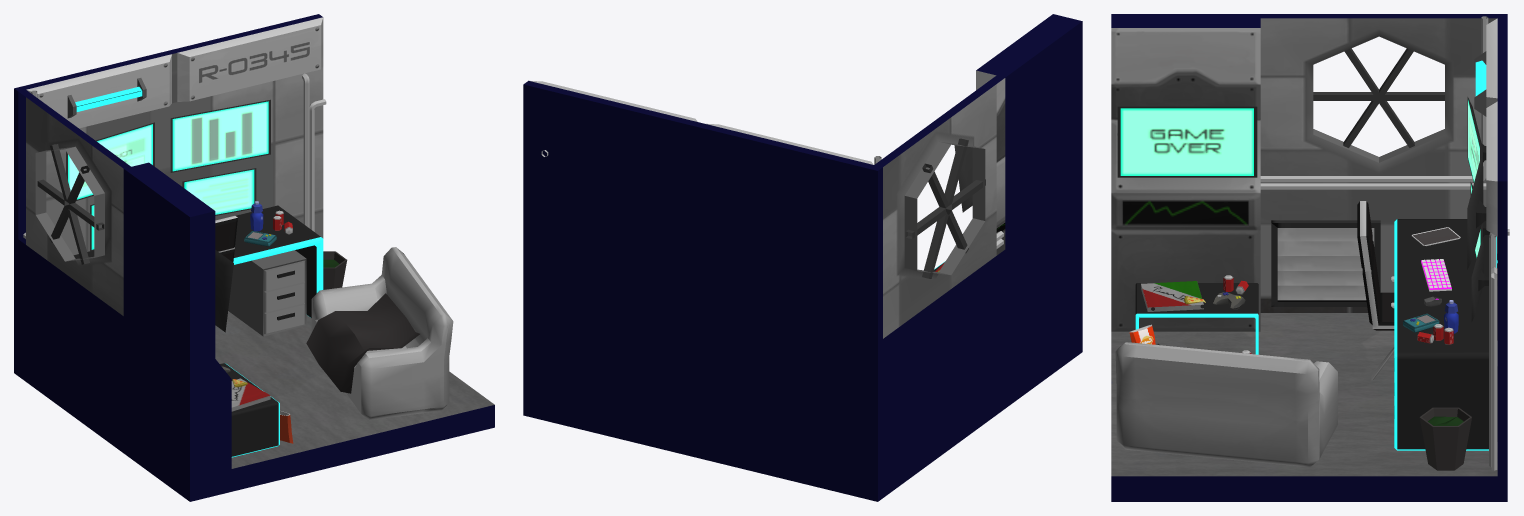
File: cyberpunk_room.glb
The picture shows the model from 3 angles, left to right: view 1: azimuth 30°, elevation 25°; view 2: azimuth 150°, elevation 25°; view 3: azimuth 270°, elevation 25°; orthographic projection. The views are drawn at different scales.
Visible parts, largest first — view 1: Cube_3; view 2: Cube_3; view 3: Cube_3.
Part boxes in pixels (left/top/right/bottom): Cube_3: left=14, top=14, right=494, bottom=501; Cube_3: left=523, top=14, right=1082, bottom=501; Cube_3: left=1111, top=14, right=1509, bottom=501.
Bounding box in the file's own units: 14.28 × 12.57 × 14.08.
Materials: 2 (2 with a texture image).
